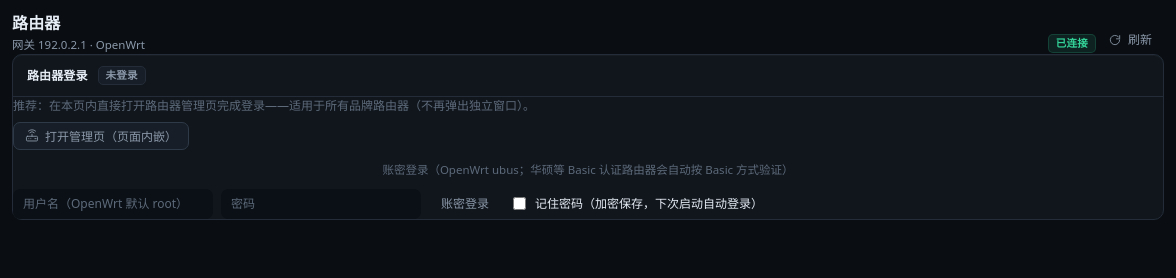
Test: RouterView 会话与账密登录 › 登录 result 失败不得清密码或显示成功，允许重试
Type " root " into the field with placeholder "用户名（OpenWrt 默认 root）".
click(113, 204); type(" root ")  # box [13,189,213,219]
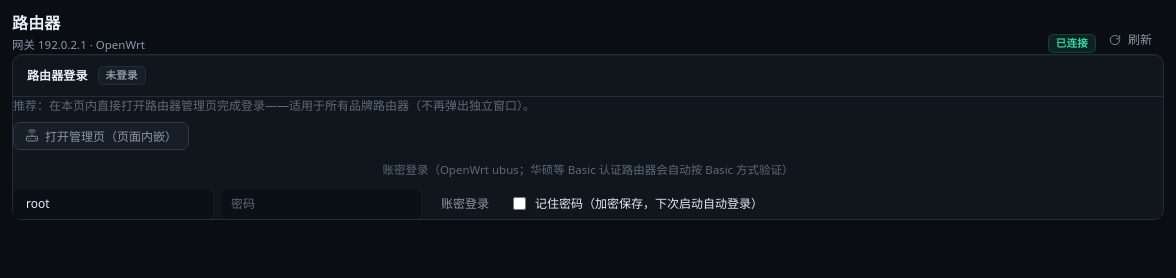
Type "test-only-password" into the password field with placeholder "密码".
click(321, 204); type("test-only-password")  # box [221,189,421,219]
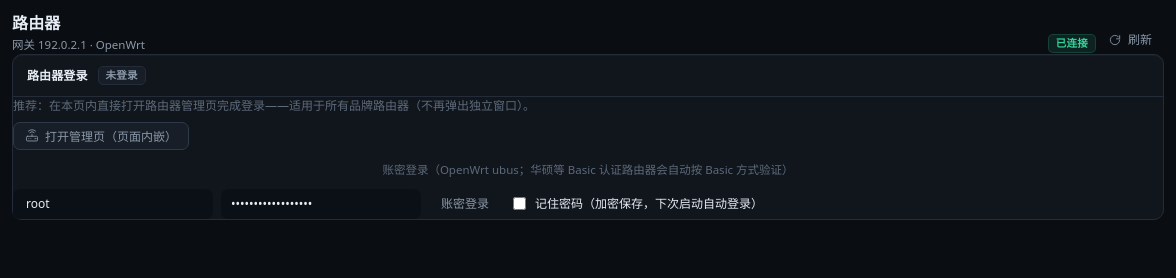
Click the button "账密登录".
click(465, 204)  # box [429,190,501,218]
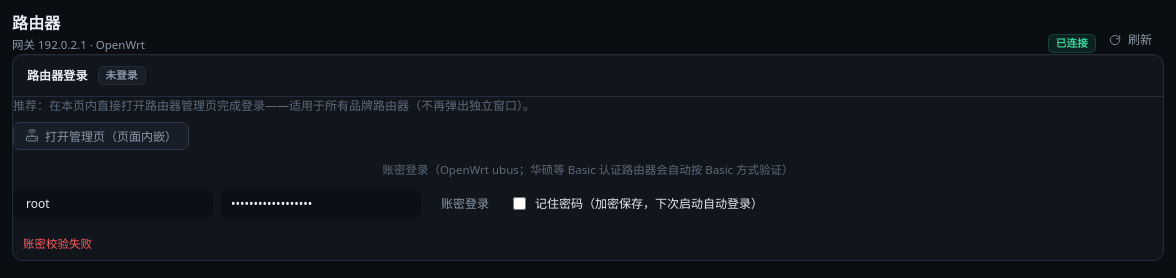
Expected: the text "未登录" is shown, [98,66,146,85]
Now the text "账密校验失败" is shown, box [23,236,92,251]
